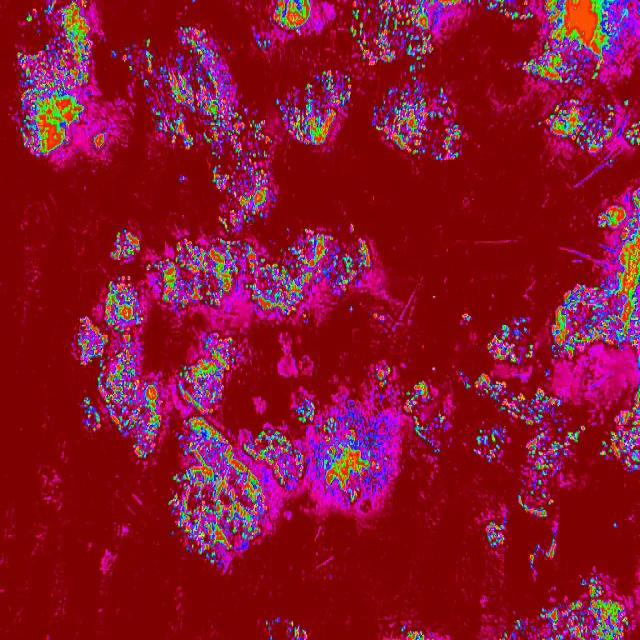fire: (72, 280, 162, 461), (167, 416, 264, 576), (140, 25, 242, 149), (14, 1, 90, 159), (256, 233, 376, 319), (539, 0, 640, 82), (312, 416, 394, 513), (372, 86, 462, 166), (597, 186, 640, 352), (163, 238, 256, 313), (518, 425, 586, 517), (351, 0, 438, 70), (276, 69, 352, 145), (210, 150, 276, 235), (460, 372, 562, 423), (176, 334, 240, 414), (561, 574, 630, 640), (548, 96, 616, 152), (599, 384, 640, 474), (403, 379, 451, 453), (262, 426, 310, 496), (552, 281, 596, 357), (486, 316, 537, 368), (272, 0, 312, 34), (473, 426, 507, 465), (242, 111, 270, 150), (110, 228, 141, 262), (487, 0, 534, 22), (537, 601, 561, 640), (483, 519, 507, 549), (120, 43, 138, 78), (290, 398, 314, 424), (371, 364, 395, 390), (497, 617, 523, 640), (285, 617, 308, 640), (518, 56, 539, 80), (398, 624, 427, 640), (92, 128, 109, 150), (625, 121, 640, 145), (437, 0, 482, 8), (145, 256, 163, 276), (543, 537, 558, 561), (252, 36, 273, 52), (528, 544, 539, 574), (264, 615, 274, 640), (176, 174, 188, 186), (411, 72, 420, 84), (300, 227, 318, 233), (111, 50, 120, 61), (461, 312, 470, 322), (622, 98, 630, 108), (612, 520, 620, 530), (350, 222, 356, 234), (432, 363, 438, 372), (608, 159, 614, 167), (432, 294, 437, 300), (190, 0, 196, 4), (537, 122, 542, 126)
